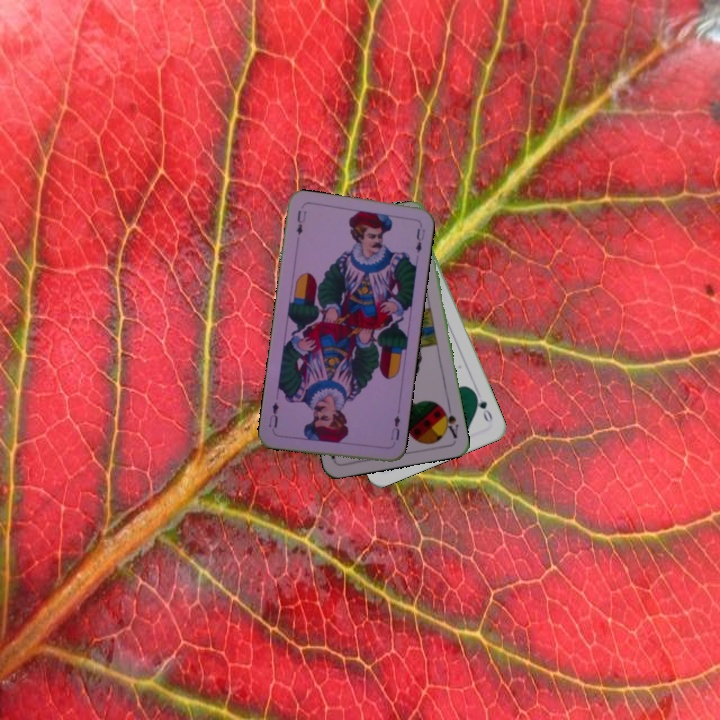EU: (292, 206, 309, 238), (387, 411, 403, 443)
GO: (470, 388, 495, 426)
SA: (438, 401, 461, 441)
